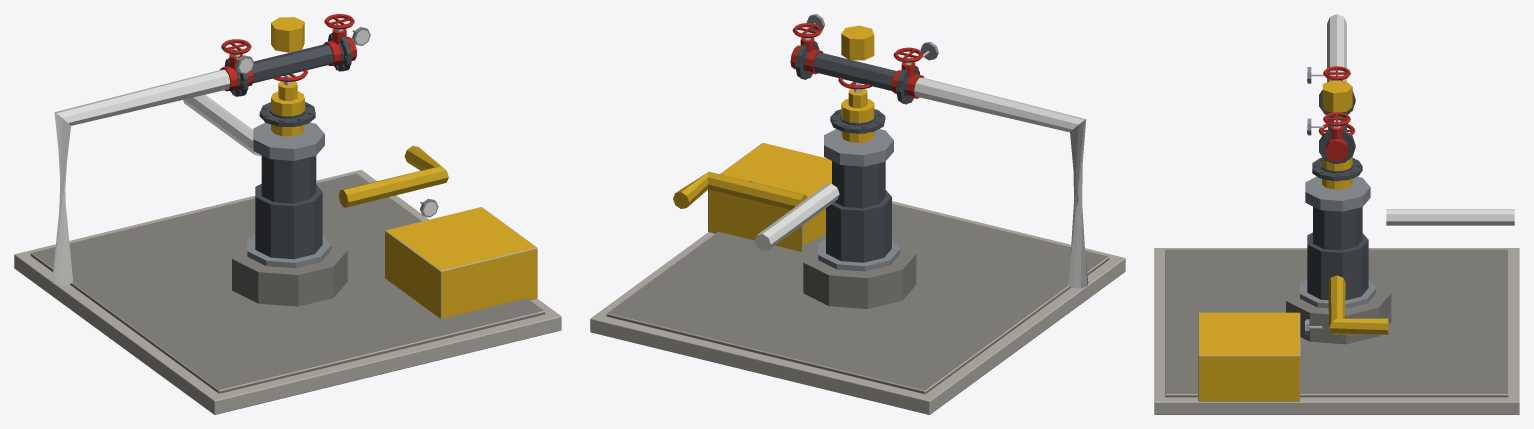
The model's file is on_wellhead.glb.
The picture shows the model from 3 angles, left to right: view 1: azimuth 30°, elevation 25°; view 2: azimuth 150°, elevation 25°; view 3: azimuth 270°, elevation 25°; orthographic projection. The views are drawn at different scales.
Visible parts, largest first — view 1: on_wellhead; view 2: on_wellhead; view 3: on_wellhead.
Part boxes in pixels (<box>): on_wellhead: <box>14,14,561,414</box>; on_wellhead: <box>590,14,1125,414</box>; on_wellhead: <box>1154,14,1519,414</box>.
Bounding box in the file's own units: 5.88 × 3.79 × 5.
